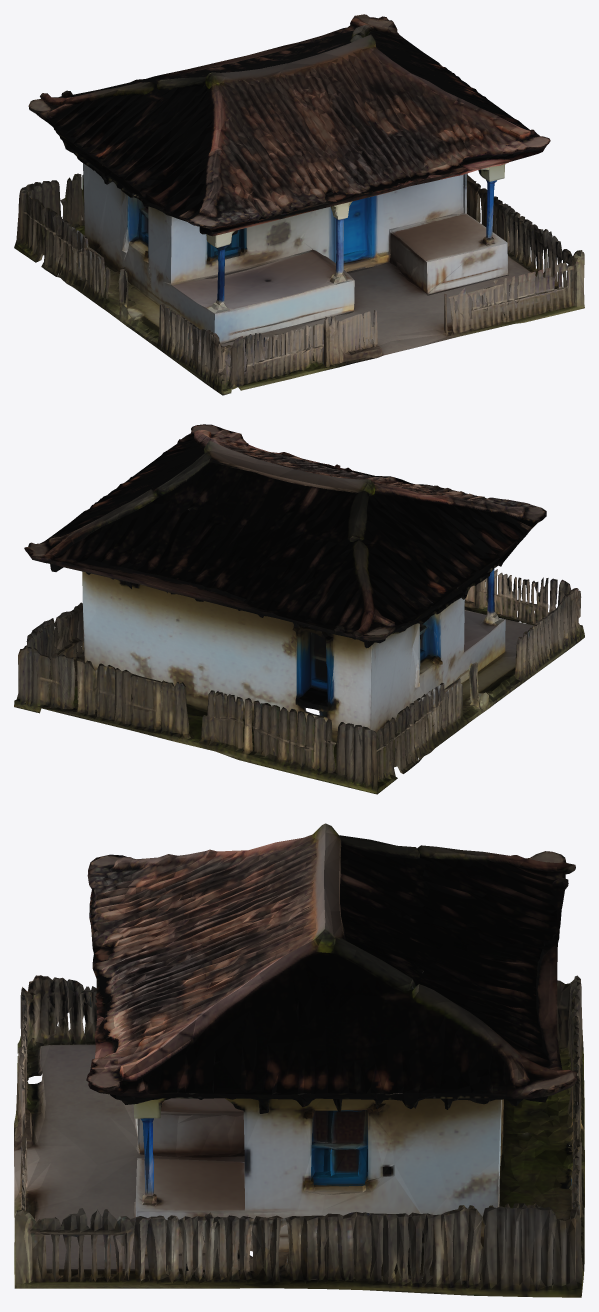
File: indian_house_old.obj
The picture shows the model from 3 angles, top to bottom: view 1: azimuth 30°, elevation 25°; view 2: azimuth 150°, elevation 25°; view 3: azimuth 270°, elevation 25°; orthographic projection. The views are drawn at different scales.
Visible parts, largest first — view 1: obj1, obj2; view 2: obj1, obj2; view 3: obj1, obj2.
Boxes of the visible parts, bbox=[...] form: obj1: bbox=[14, 14, 584, 395]; obj2: bbox=[16, 22, 584, 395]; obj1: bbox=[15, 424, 584, 794]; obj2: bbox=[14, 427, 582, 788]; obj1: bbox=[14, 823, 584, 1297]; obj2: bbox=[16, 824, 584, 1295].
Size of the model in its own units: 7.32 by 4.26 by 7.31.
Materials: 1 (1 with a texture image).
